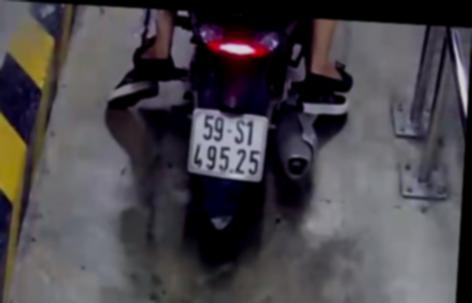License_Plate: (181, 101, 276, 192)
